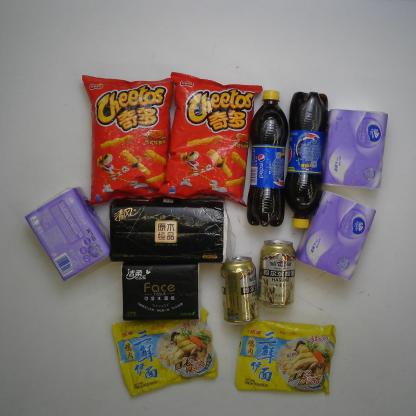Alcohol: (220, 254, 260, 326), (257, 239, 297, 309)
Drink: (283, 91, 330, 231), (245, 89, 290, 229)
Instant Noodles: (111, 306, 219, 397), (234, 318, 337, 394)
Puffed Food: (154, 71, 265, 208), (81, 74, 175, 206)
Tissue: (24, 185, 112, 284), (109, 197, 237, 265), (295, 190, 377, 282), (320, 108, 389, 190), (121, 260, 203, 324)
